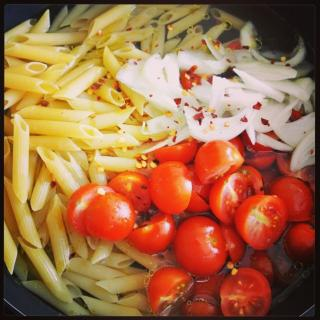tomato: (173, 216, 236, 281), (235, 195, 289, 252), (217, 266, 271, 320), (207, 172, 255, 228), (193, 140, 247, 187), (146, 266, 195, 316), (88, 190, 135, 242), (66, 184, 111, 235), (124, 213, 176, 256), (148, 160, 191, 211), (268, 174, 314, 218), (106, 170, 150, 208), (183, 280, 220, 319), (150, 139, 198, 163), (285, 218, 318, 250), (277, 156, 316, 181), (244, 145, 278, 167)
